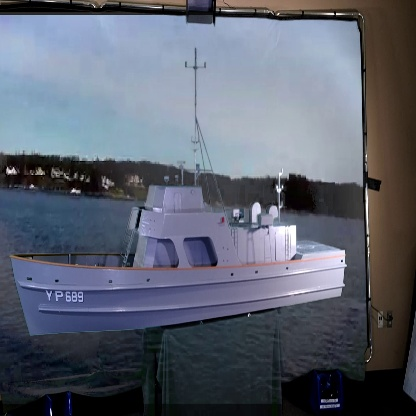YP689: (9, 50, 347, 338)
